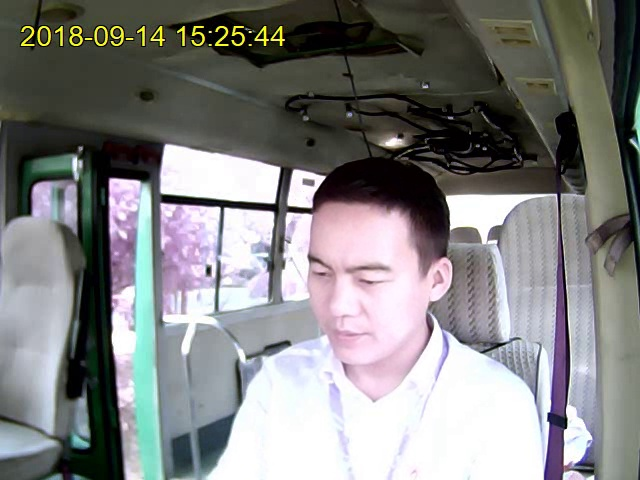closed_mouth: (325, 323, 369, 346)
